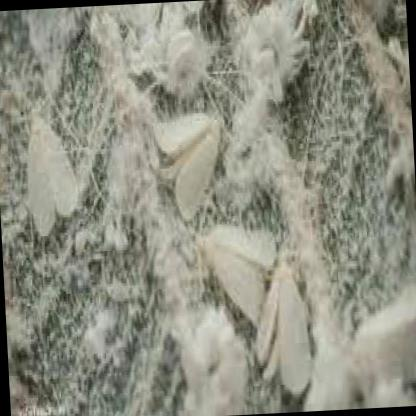whitefly: (199, 220, 279, 332), (151, 116, 222, 219), (26, 113, 77, 242)
